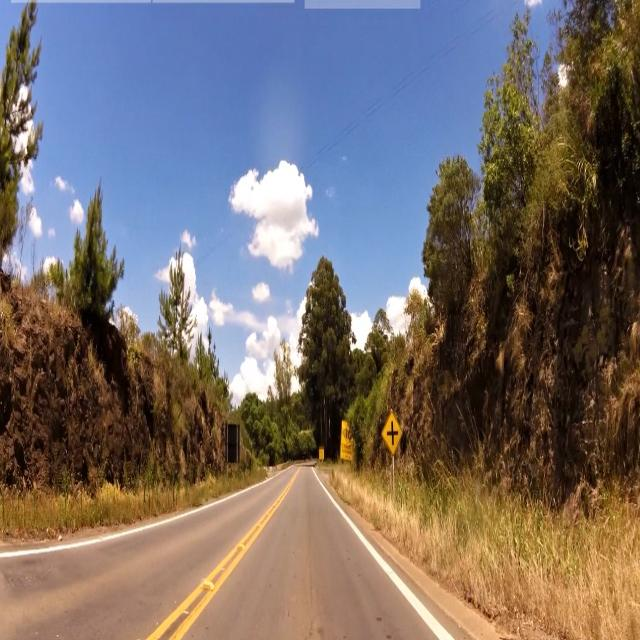A-6: (380, 407, 404, 457)
